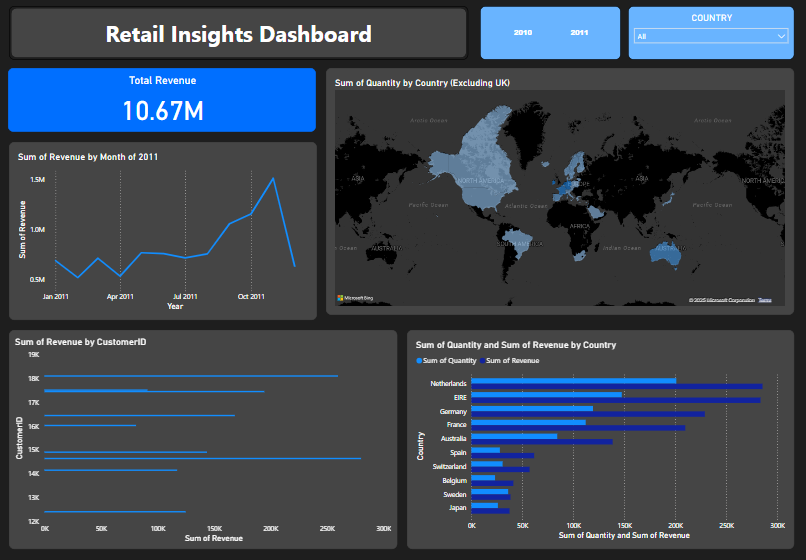

The page's visual inventory and layout, read from the dashboard file:
{"tool":"powerbi","page":{"name":"Page 1","canvas":[1460,1024],"ordinal":0},"visuals":[{"type":"filledMap","title":"Sum of Quantity by Country (Excluding UK)","fields":{"Category":["Online Retail.Country"]},"box":[593.1,130,844.1,445],"z":0},{"type":"lineChart","title":"Sum of Revenue by Month of 2011","fields":{"Category":["Online Retail.InvoiceDate.Variation.Date Hierarchy.Year","Online Retail.InvoiceDate.Variation.Date Hierarchy.Month"],"Y":["Sum(Online Retail.Revenue)"]},"box":[21.6,263.2,555,320.9],"z":1000},{"type":"card","title":"Total Revenue","fields":{"Values":["Sum(Online Retail.Revenue)"]},"box":[19.8,130.5,555.5,114.7],"z":2000},{"type":"clusteredBarChart","fields":{"Category":["Online Retail.Country"],"Y":["Sum(Online Retail.Quantity)","Sum(Online Retail.Revenue)"]},"box":[739.2,602.1,697.7,394.8],"z":3000},{"type":"barChart","fields":{"Category":["Online Retail.CustomerID"],"Y":["Sum(Online Retail.Revenue)"]},"box":[21.6,602.1,700,394.8],"z":4000},{"type":"shape","title":"Retail Insights Dashboard","box":[21.7,17.8,828.3,96.9],"z":5000},{"type":"slicer","fields":{"Values":["Online Retail.Year"]},"box":[870.8,18,254.2,97.4],"z":6000},{"type":"slicer","title":"COUNTRY","fields":{"Values":["Online Retail.Country"]},"box":[1136.7,17.8,300.5,96.9],"z":7000}]}

Visuals, with their boxes in screenshot pixels (x1, y1, x2, y2), scaled from the page's 1460x1024 canvas onto the 806x560 screenshot:
"Sum of Quantity by Country (Excluding UK)" filledMap: bbox(327, 71, 793, 314)
"Sum of Revenue by Month of 2011" lineChart: bbox(12, 144, 318, 319)
"Total Revenue" card: bbox(11, 71, 318, 134)
clusteredBarChart - Online Retail.Country x Sum(Online Retail.Quantity): bbox(408, 329, 793, 545)
barChart - Online Retail.CustomerID x Sum(Online Retail.Revenue): bbox(12, 329, 398, 545)
"Retail Insights Dashboard" shape: bbox(12, 10, 469, 63)
slicer - Online Retail.Year: bbox(481, 10, 621, 63)
"COUNTRY" slicer: bbox(628, 10, 793, 63)
